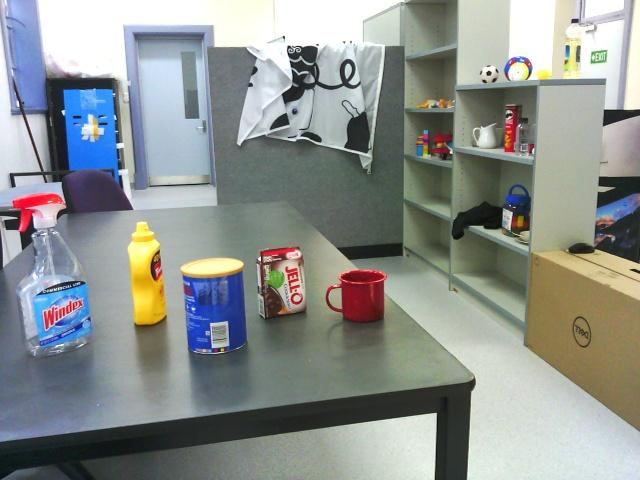002_master_chef_can: (176, 257, 251, 357)
006_mustard_bottle: (121, 219, 166, 330)
008_pudding_box: (253, 248, 312, 320)
025_mug: (325, 269, 390, 322)
